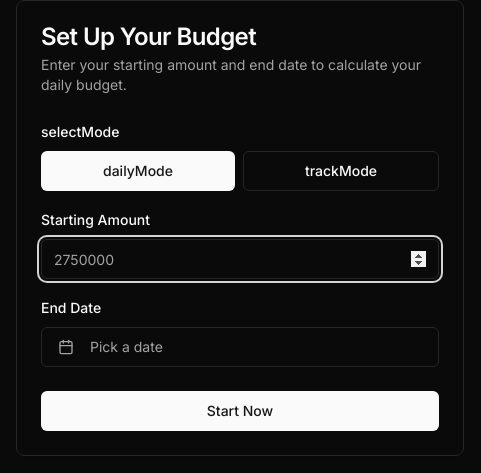
Test case: SetupForm › Amount input behavior › should set null when 0 is entered
Note: Enter 0 
Clear the number field labelled "Starting Amount" at (240, 259), box [41, 239, 439, 279]
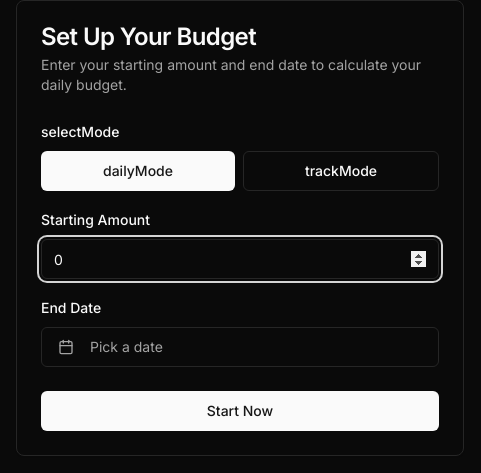
Expected: the number field labelled "Starting Amount" holds "0", [41, 239, 439, 279]
